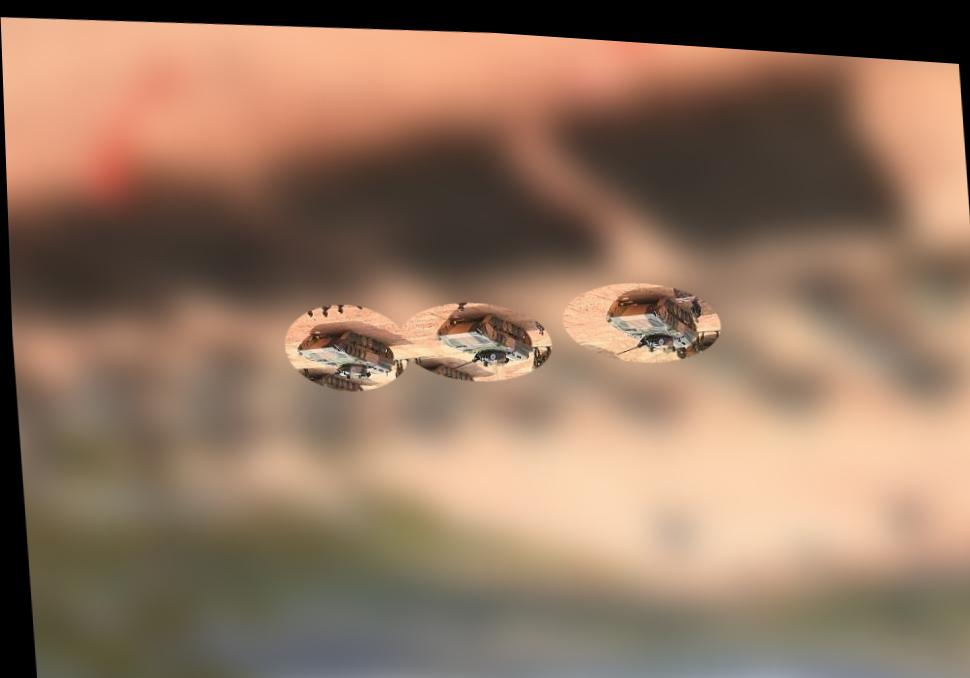tank: (595, 289, 703, 359), (432, 309, 533, 375), (294, 326, 396, 388)
